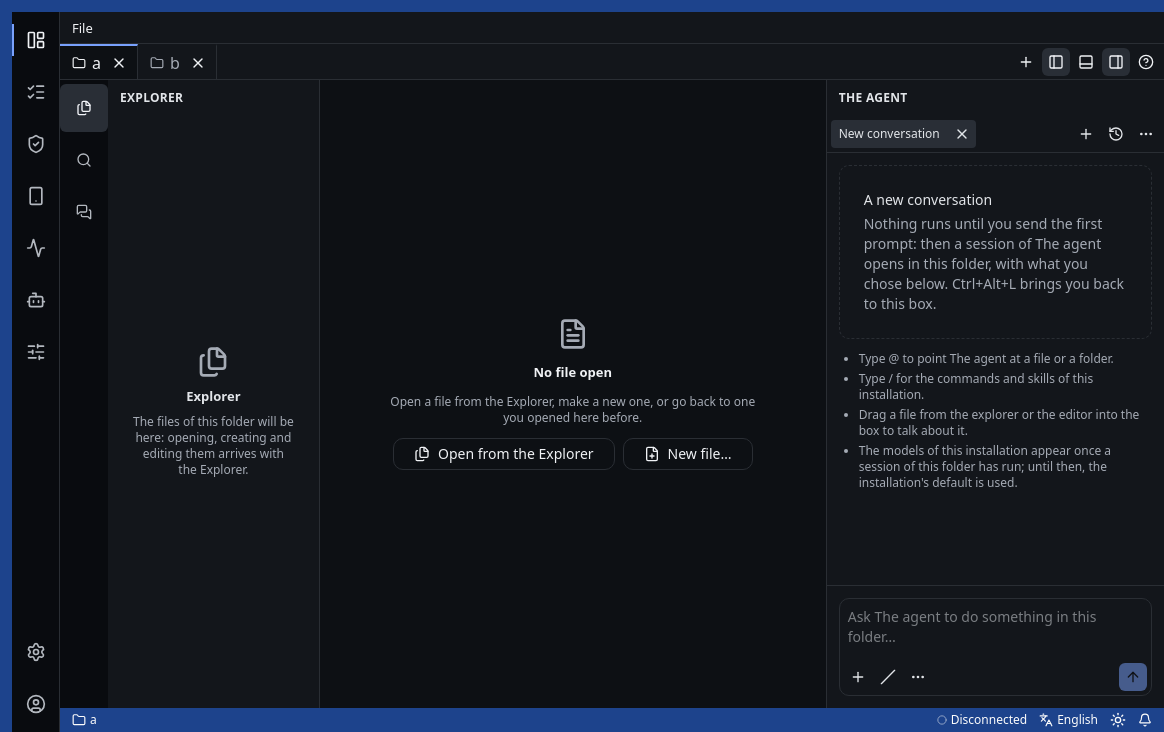
Test: the activity bar — plan 06, S-111, S-112 › switches the view of the side bar, and pressing the one open closes it
Step 1. Click the button named "Search" → coordinates (84, 160), box [60, 136, 108, 184]
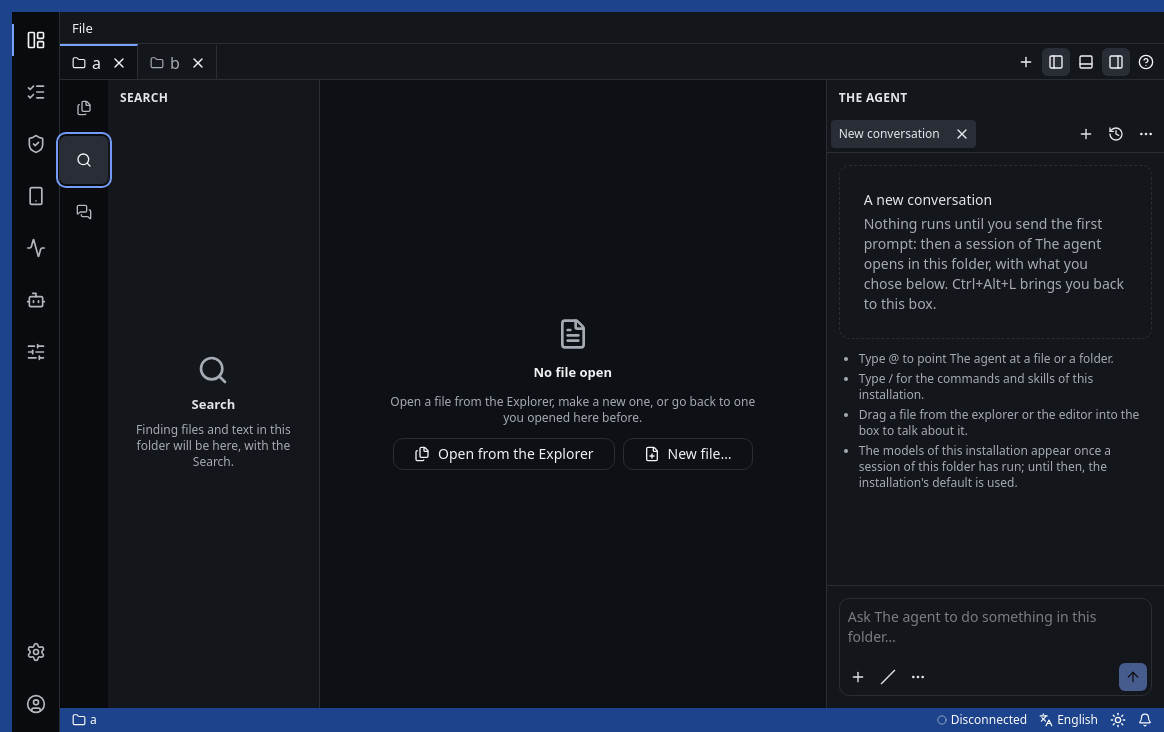
Now the element "Search" is shown, box [108, 80, 319, 708]
Now the text "Finding files and text in this folder will be here, with the Search." is shown, box [132, 422, 295, 470]
Step 2. Click the button named "Search" → coordinates (84, 160), box [60, 136, 108, 184]
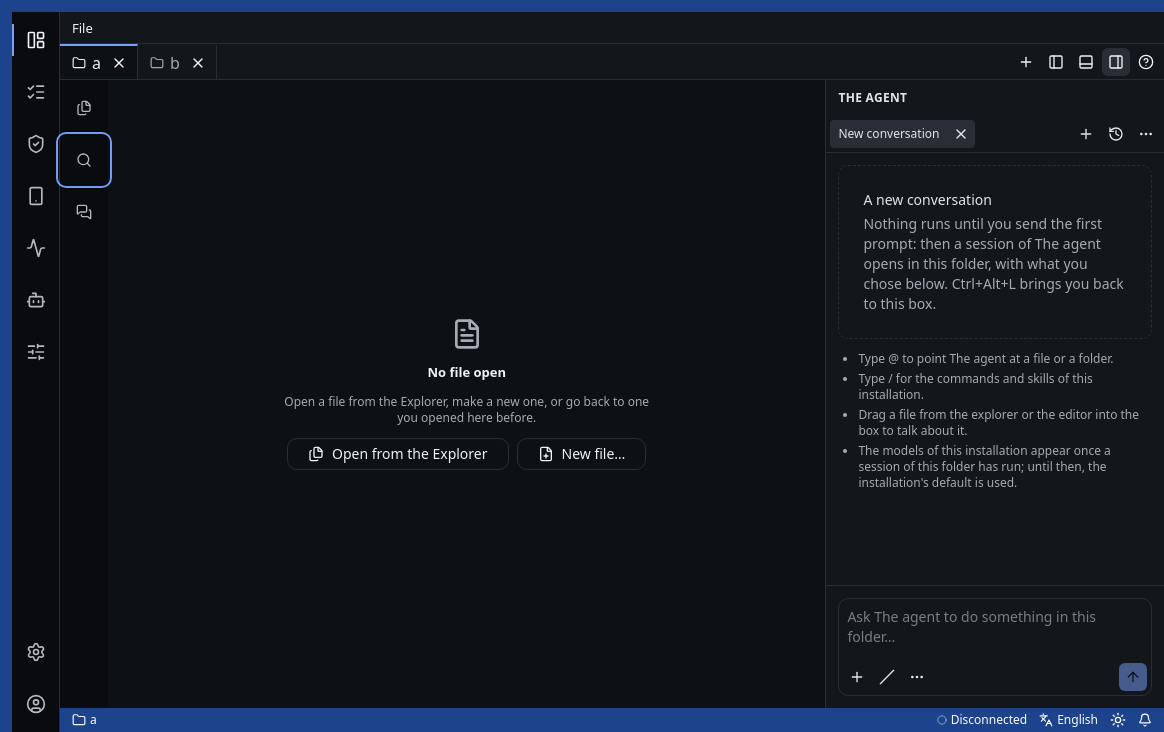
Now the heading "Search" is gone
Step 3. Click the button named "The agent sessions" → coordinates (84, 212), box [60, 188, 108, 236]
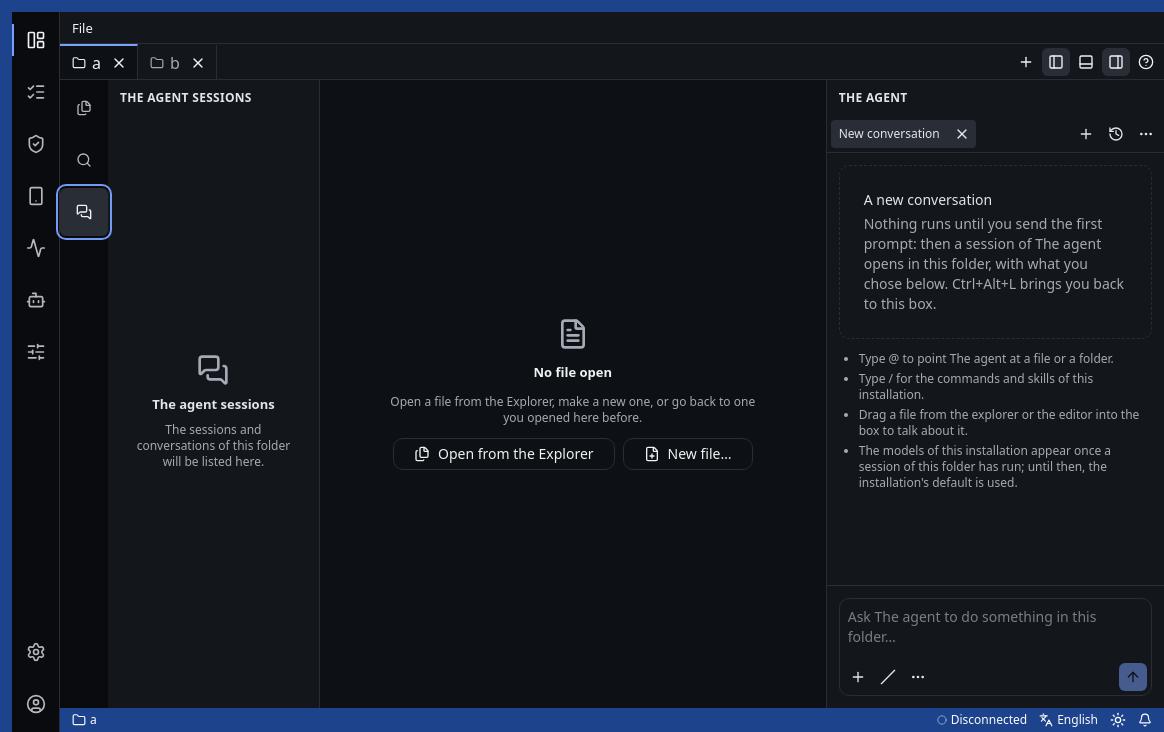
Now the text "The sessions and conversations of this folder will be listed here." is shown, box [132, 422, 295, 470]
